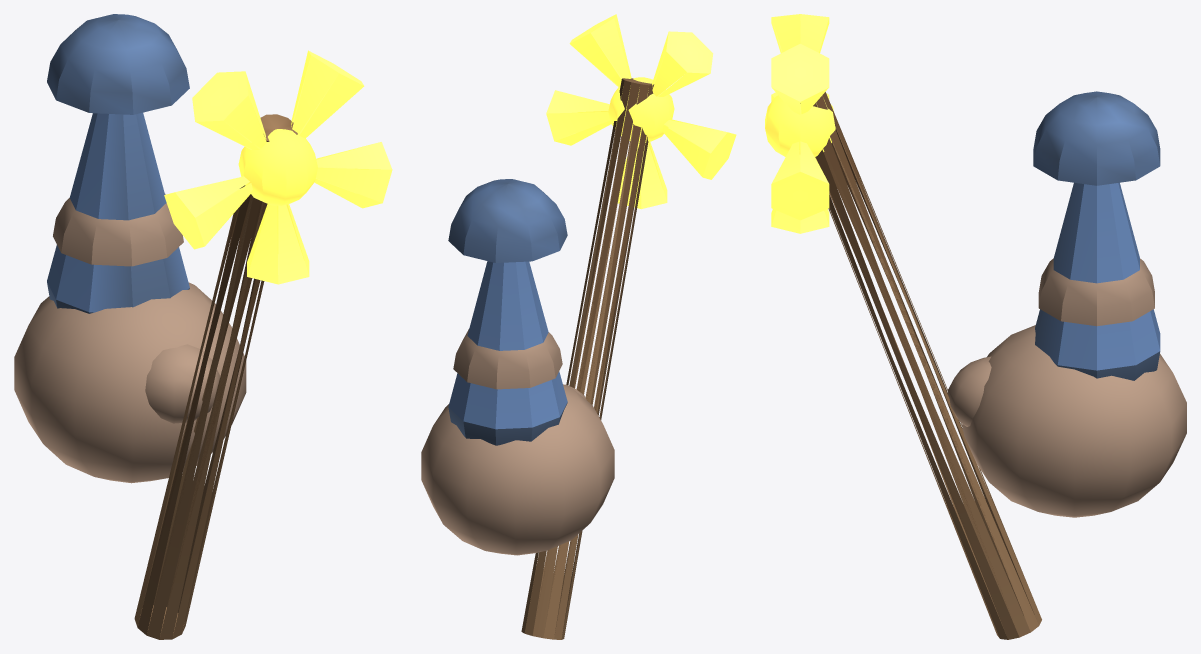
File: boy-flower-balloon-wand-armR.glb
3 views of the same model, side by side, from view 1: azimuth 30°, elevation 25°; view 2: azimuth 150°, elevation 25°; view 3: azimuth 270°, elevation 25° (orthographic). The views are drawn at different scales.
Parts seen in each view (by area): view 1: player_boy-flower-balloon-wand:armR; view 2: player_boy-flower-balloon-wand:armR; view 3: player_boy-flower-balloon-wand:armR.
Part boxes in pixels (bbox=[...]): player_boy-flower-balloon-wand:armR: bbox=[14, 14, 392, 639]; player_boy-flower-balloon-wand:armR: bbox=[421, 14, 736, 639]; player_boy-flower-balloon-wand:armR: bbox=[765, 14, 1186, 639].
Size of the model in its own units: 0.1195 by 0.3609 by 0.2276.
